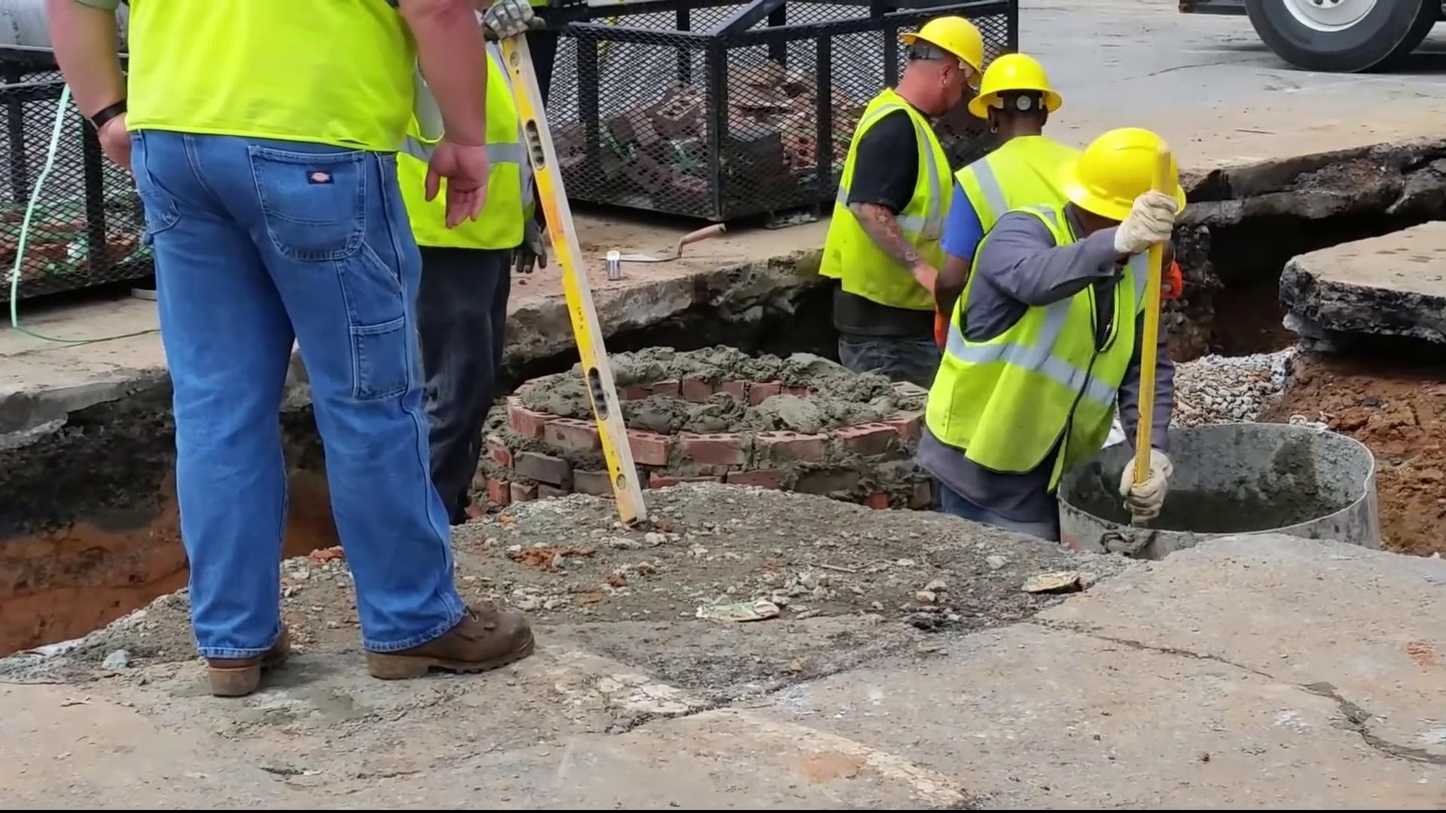apron: (1115, 444, 1183, 523), (1115, 188, 1180, 256), (477, 1, 546, 46), (514, 207, 545, 286)
